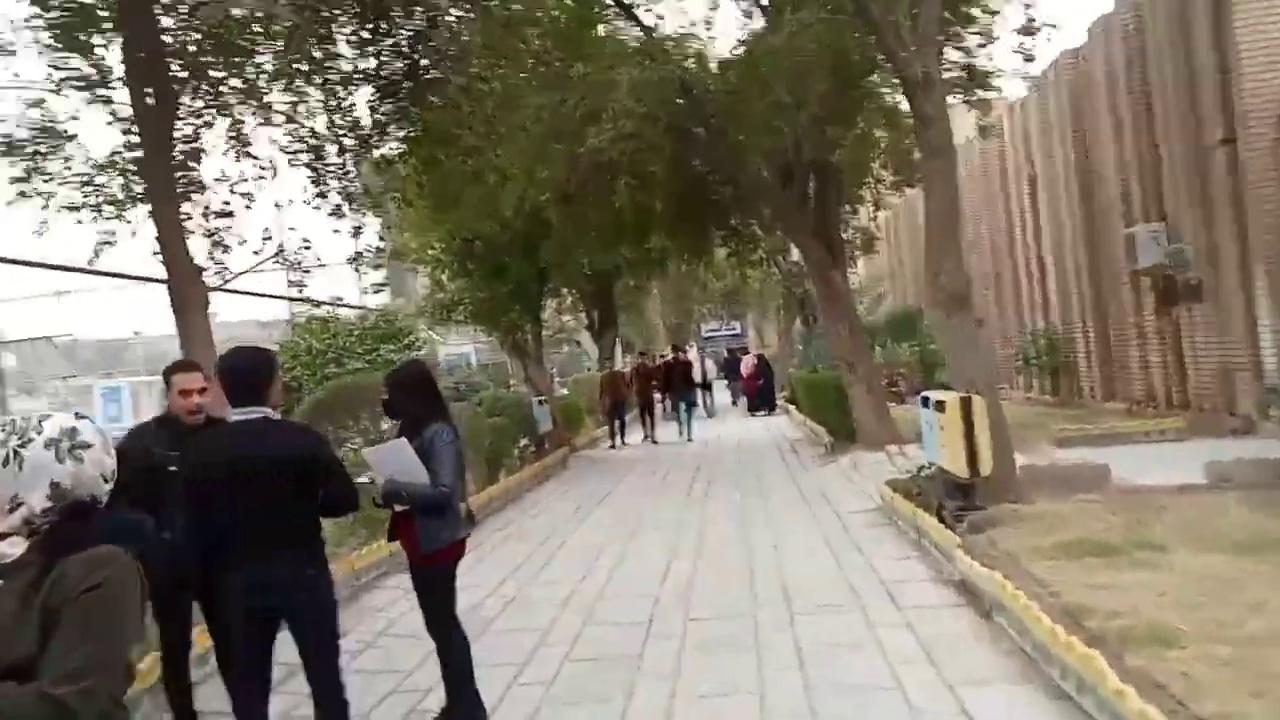person: (176, 344, 359, 719), (0, 409, 155, 719), (109, 358, 232, 719), (376, 358, 488, 719)
tree: (291, 0, 944, 498), (2, 0, 465, 389), (383, 0, 725, 436), (832, 0, 1063, 447), (834, 0, 1027, 503), (108, 0, 221, 382), (457, 378, 539, 492)
